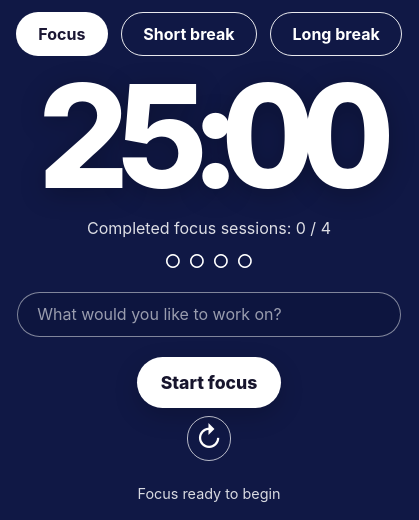
Test: TimerScreen › decrements the visible time after one second while running without further user action
Click the button "Start focus": (209, 382) [137,357,281,408]
Wait 1000 ms
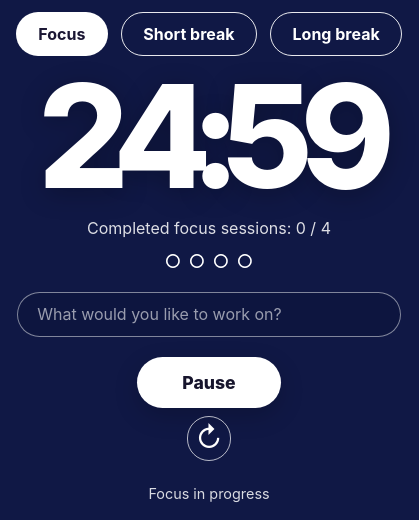
Result: the text "24:59" is shown at [37,76,381,198]
